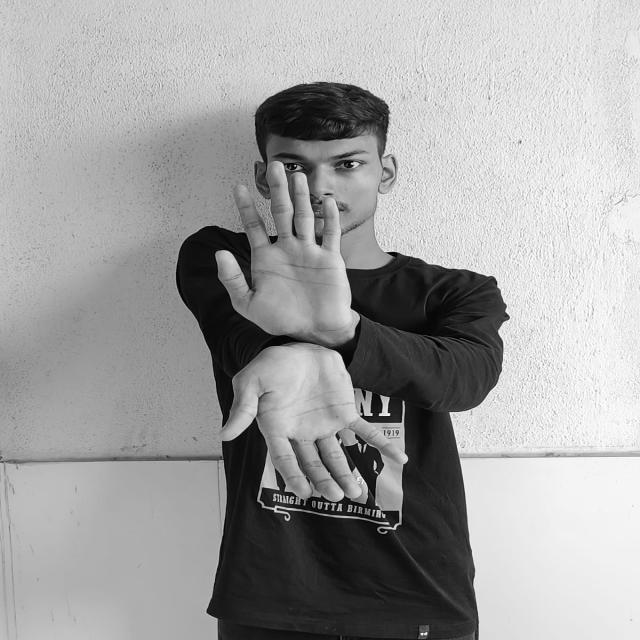Morning: (220, 159, 409, 492)
